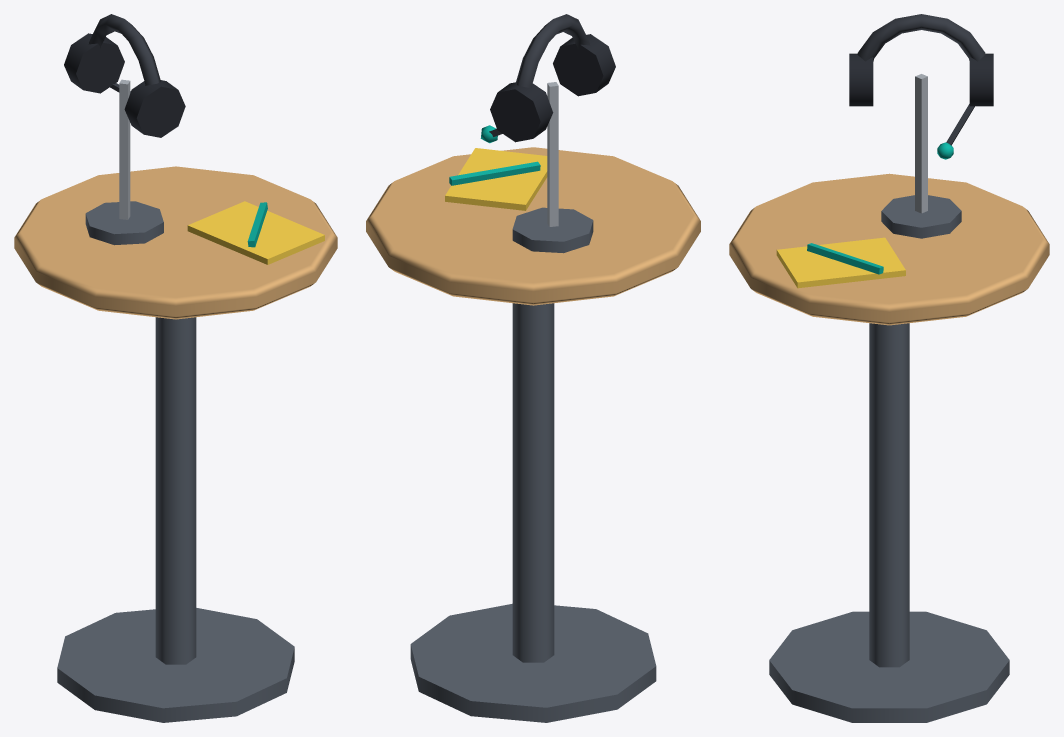
File: station_intake_ausstattung_2_1.glb
3 renders of one model, left to right at view 1: azimuth 30°, elevation 25°; view 2: azimuth 150°, elevation 25°; view 3: azimuth 270°, elevation 25°, orthographic. The views are drawn at different scales.
Visible parts, largest first — view 1: station_intake_ausstattung_2_1; view 2: station_intake_ausstattung_2_1; view 3: station_intake_ausstattung_2_1.
Boxes of the visible parts, x1=… form: station_intake_ausstattung_2_1: x1=14, y1=14, x2=337, y2=722; station_intake_ausstattung_2_1: x1=366, y1=14, x2=700, y2=722; station_intake_ausstattung_2_1: x1=729, y1=14, x2=1049, y2=722.
Size of the model in its own units: 0.4 by 0.886 by 0.4.
